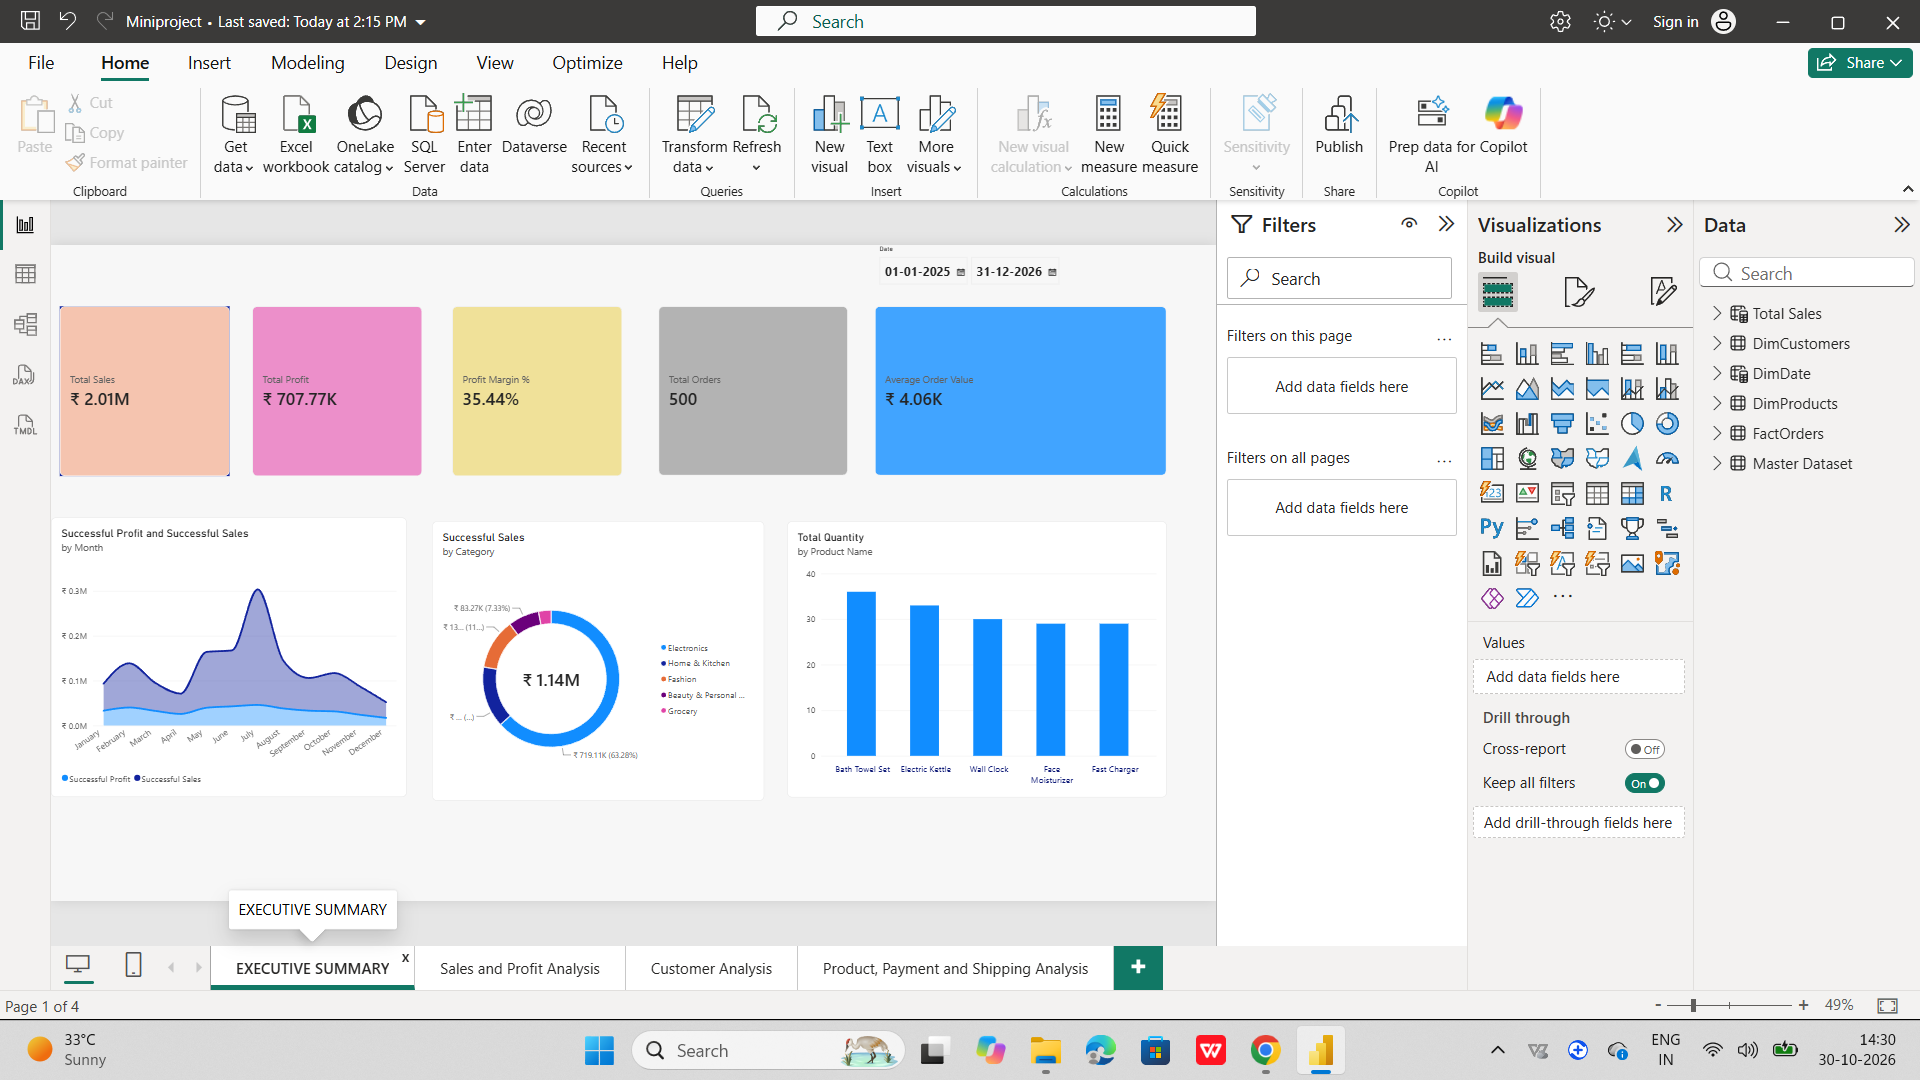

This screenshot's page, from the dashboard's own definition file:
{"tool":"powerbi","page":{"name":"EXECUTIVE SUMMARY","canvas":[1920,1080],"ordinal":0},"visuals":[{"type":"cardVisual","fields":{"Data":["Table.Total Sales"]},"box":[14.4,100.9,280,280],"z":0},{"type":"cardVisual","fields":{"Data":["Table.Total Profit"]},"box":[331.4,100.9,280,280],"z":1000},{"type":"cardVisual","fields":{"Data":["Table.Profit Margin %"]},"box":[660.7,100.9,280,280],"z":2000},{"type":"cardVisual","fields":{"Data":["Table.Total Orders"]},"box":[1002.4,100.9,312.9,279.9],"z":3000},{"type":"cardVisual","fields":{"Data":["Table.Average Order Value"]},"box":[1358.5,100.9,481.6,279.9],"z":4000},{"type":"stackedAreaChart","fields":{"Category":["DimDate.Date.Variation.Date Hierarchy.Month"],"Y":["Table.Successful Profit","Table.Successful Sales"]},"box":[0,448.7,586.6,461.1],"z":5000},{"type":"donutChart","fields":{"Category":["DimProducts.Category"],"Y":["Table.Successful Sales"]},"box":[627.8,454.9,547.5,461.1],"z":6000},{"type":"clusteredColumnChart","fields":{"Category":["DimProducts.Product Name"],"Y":["Table.Total Quantity"]},"box":[1214.4,454.9,625.7,454.9],"z":7000},{"type":"slicer","fields":{"Values":["DimDate.Date"]},"box":[1358.5,0,535.2,76.2],"z":8000},{"type":"textbox","box":[10,792,535,288],"z":9000}]}

Visuals, with their boxes on the page's 1920x1080 design canvas (x1, y1, x2, y2). These are canvas units, not pixel positions in the 1920x1080 screenshot, which may show the page scaled, cropped or inside an application window:
cardVisual - Table.Total Sales: (left=14, top=101, right=294, bottom=381)
cardVisual - Table.Total Profit: (left=331, top=101, right=611, bottom=381)
cardVisual - Table.Profit Margin %: (left=661, top=101, right=941, bottom=381)
cardVisual - Table.Total Orders: (left=1002, top=101, right=1315, bottom=381)
cardVisual - Table.Average Order Value: (left=1358, top=101, right=1840, bottom=381)
stackedAreaChart - DimDate.Date.Variation.Date Hierarchy.Month x Table.Successful Profit: (left=0, top=449, right=587, bottom=910)
donutChart - DimProducts.Category x Table.Successful Sales: (left=628, top=455, right=1175, bottom=916)
clusteredColumnChart - DimProducts.Product Name x Table.Total Quantity: (left=1214, top=455, right=1840, bottom=910)
slicer - DimDate.Date: (left=1358, top=0, right=1894, bottom=76)
textbox: (left=10, top=792, right=545, bottom=1080)
